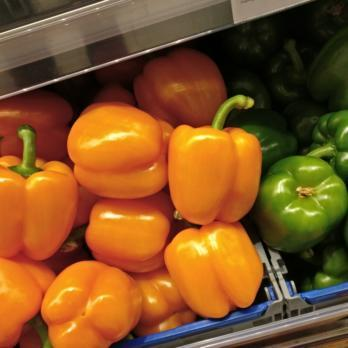Capsicum: (0, 96, 262, 312), (222, 25, 348, 253), (0, 256, 146, 348), (136, 46, 231, 130)
